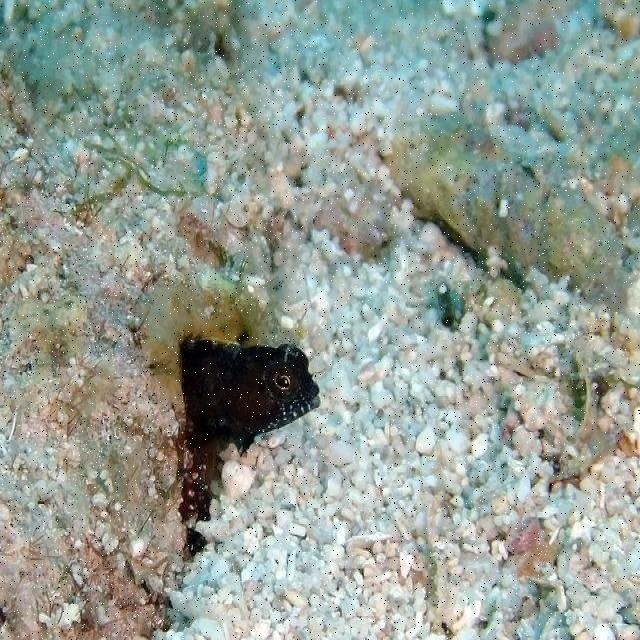fish: (174, 334, 321, 555)
